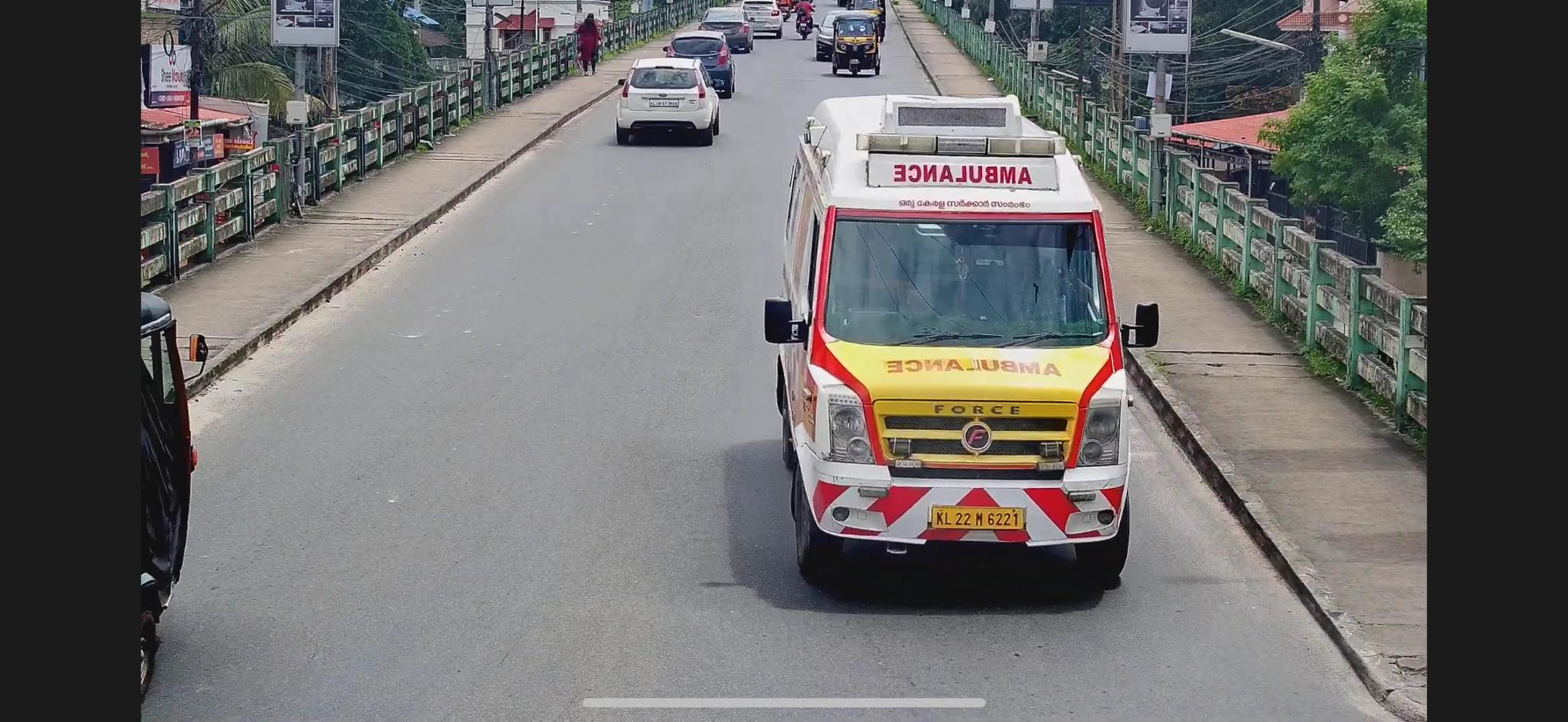ambulance: (764, 94, 1160, 592)
